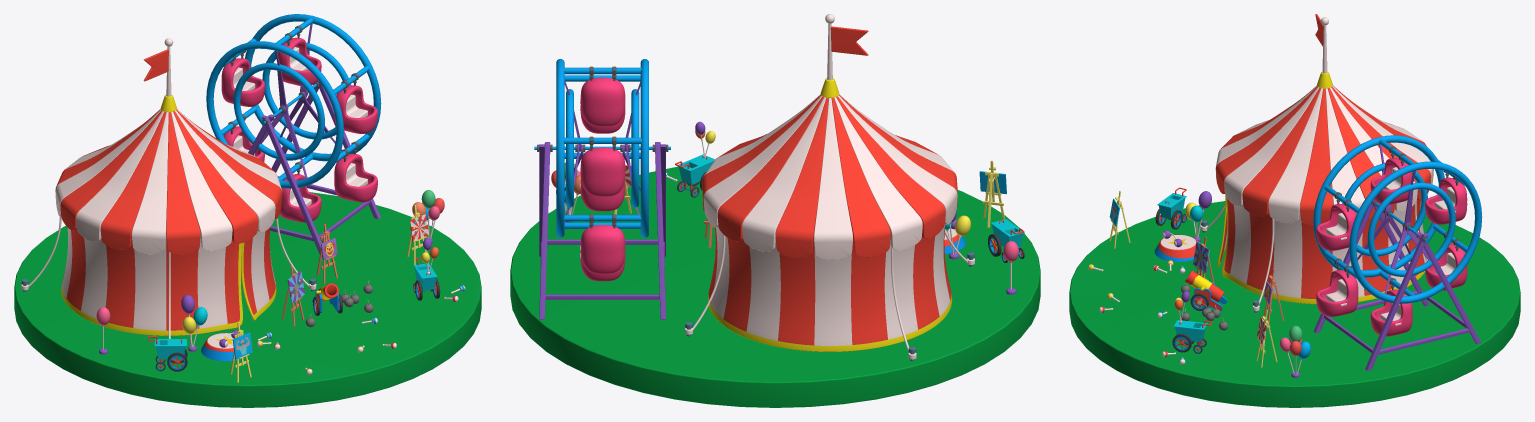
File: Public_Island_14.glb
The picture shows the model from 3 angles, left to right: view 1: azimuth 30°, elevation 25°; view 2: azimuth 150°, elevation 25°; view 3: azimuth 270°, elevation 25°; orthographic projection. The views are drawn at different scales.
Parts seen in each view (by area): view 1: Public_14_Base_1, Public_14_Circus_Tent_1, Public_14_Circus_Ferris_wheel_1, Public_14_Circus_cart_with_balls_1, Public_14_Circus_cart_1, Public_14_Air_Balloons_3, Public_14_Air_Balloons_1, Public_14_Circus_Pedestal_1, Public_14_Cannon_1; view 2: Public_14_Base_1, Public_14_Circus_Tent_1, Public_14_Circus_Ferris_wheel_1, Public_14_Circus_cart_with_balls_1, Public_14_Circus_cart_1, Public_14_Easel_3, Public_14_Air_Balloons_3; view 3: Public_14_Base_1, Public_14_Circus_Tent_1, Public_14_Circus_Ferris_wheel_1, Public_14_Circus_cart_with_balls_1, Public_14_Cannon_1, Public_14_Circus_Pedestal_1, Public_14_Circus_cart_1, Public_14_Air_Balloons_1, Public_14_Air_Balloons_3.
Part boxes in pixels (left/top/right/bottom): Public_14_Base_1: left=14, top=192, right=481, bottom=407; Public_14_Circus_Tent_1: left=21, top=38, right=316, bottom=338; Public_14_Circus_Ferris_wheel_1: left=206, top=14, right=381, bottom=257; Public_14_Circus_cart_with_balls_1: left=413, top=238, right=440, bottom=300; Public_14_Circus_cart_1: left=148, top=336, right=187, bottom=371; Public_14_Air_Balloons_3: left=181, top=295, right=207, bottom=351; Public_14_Air_Balloons_1: left=412, top=190, right=444, bottom=242; Public_14_Circus_Pedestal_1: left=201, top=333, right=244, bottom=361; Public_14_Cannon_1: left=312, top=283, right=342, bottom=315; Public_14_Base_1: left=510, top=167, right=1040, bottom=407; Public_14_Circus_Tent_1: left=685, top=14, right=974, bottom=361; Public_14_Circus_Ferris_wheel_1: left=534, top=59, right=670, bottom=319; Public_14_Circus_cart_with_balls_1: left=675, top=121, right=715, bottom=197; Public_14_Circus_cart_1: left=988, top=219, right=1024, bottom=262; Public_14_Easel_3: left=982, top=160, right=1004, bottom=227; Public_14_Air_Balloons_3: left=945, top=211, right=970, bottom=259; Public_14_Base_1: left=1069, top=201, right=1520, bottom=407; Public_14_Circus_Tent_1: left=1201, top=14, right=1446, bottom=312; Public_14_Circus_Ferris_wheel_1: left=1313, top=135, right=1482, bottom=370; Public_14_Circus_cart_with_balls_1: left=1172, top=291, right=1212, bottom=353; Public_14_Cannon_1: left=1185, top=270, right=1226, bottom=310; Public_14_Circus_Pedestal_1: left=1154, top=234, right=1196, bottom=261; Public_14_Circus_cart_1: left=1155, top=187, right=1186, bottom=229; Public_14_Air_Balloons_1: left=1279, top=325, right=1310, bottom=377; Public_14_Air_Balloons_3: left=1185, top=191, right=1211, bottom=241.
Size of the model in its own units: 22.27 by 14.47 by 22.27.
Materials: 32 (32 with a texture image).
